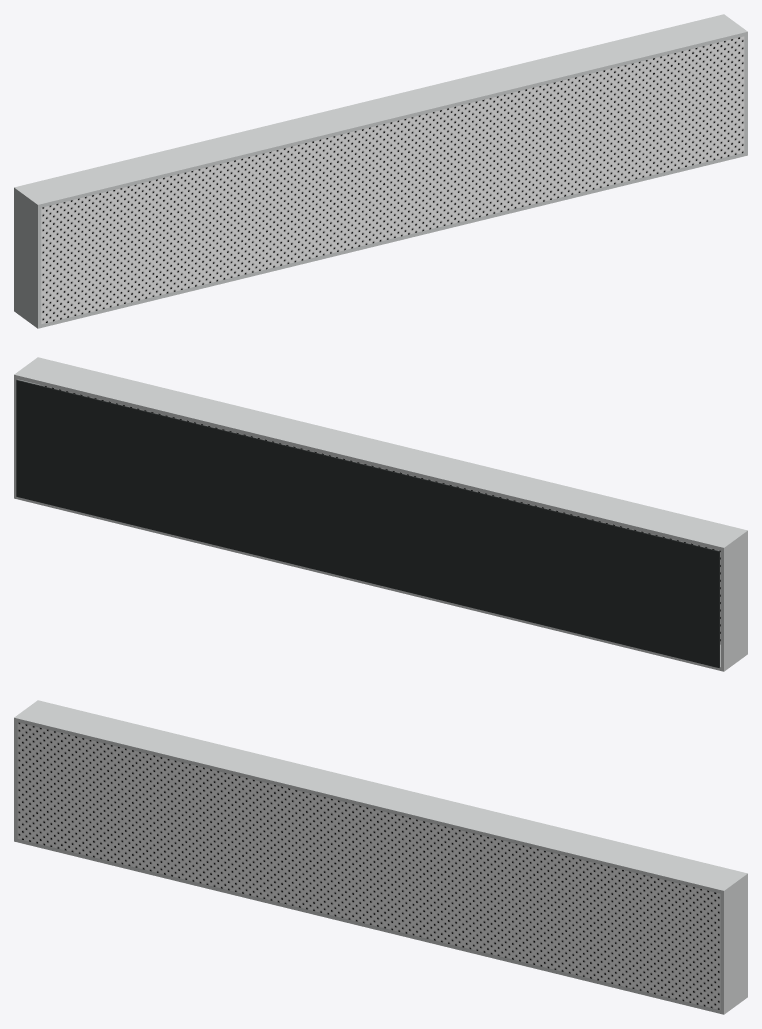
File: ecoclima-egff-600x100.glb
The picture shows the model from 3 angles, top to bottom: view 1: azimuth 30°, elevation 25°; view 2: azimuth 150°, elevation 25°; view 3: azimuth 330°, elevation 25°; orthographic projection.
Visible parts, largest first — view 1: Profile_lamiera_forata.001, Profile_ritorno.120, Profile_ritorno.122, Profile_ritorno.121; view 2: Interno.032, Profile_ritorno.120, Profile_ritorno.122, Profile_ritorno.121, Profile_lamiera_forata.001; view 3: Profile_lamiera_forata.001, Profile_ritorno.120, Profile_ritorno.123, Profile_ritorno.121.
Part boxes in pixels (bbox=[...]): Profile_lamiera_forata.001: bbox=[41, 36, 744, 323]; Profile_ritorno.120: bbox=[14, 14, 747, 208]; Profile_ritorno.122: bbox=[14, 191, 41, 324]; Profile_ritorno.121: bbox=[14, 152, 747, 328]; Interno.032: bbox=[16, 380, 719, 667]; Profile_ritorno.120: bbox=[14, 357, 747, 551]; Profile_ritorno.122: bbox=[720, 534, 747, 667]; Profile_ritorno.121: bbox=[14, 495, 747, 671]; Profile_lamiera_forata.001: bbox=[40, 385, 720, 644]; Profile_lamiera_forata.001: bbox=[17, 722, 720, 1009]; Profile_ritorno.120: bbox=[14, 700, 747, 894]; Profile_ritorno.123: bbox=[720, 877, 747, 1010]; Profile_ritorno.121: bbox=[14, 838, 747, 1014].
Size of the model in its own units: 0.6 by 0.1 by 0.037.
Materials: 3 (1 with a texture image).
